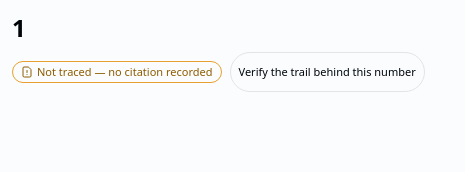
Test: TraceableFigure › does not report a verification failure as a finding about the record
Click the button "Verify the trail behind this number" at {"x": 327, "y": 72}, box x1=230 y1=52 x2=425 y2=92
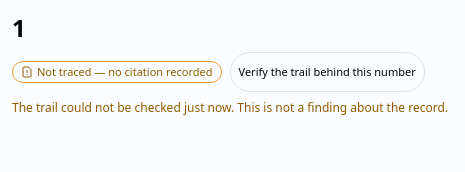
Expected: the text "not a finding about the record" is shown, x1=12 y1=99 x2=448 y2=116
